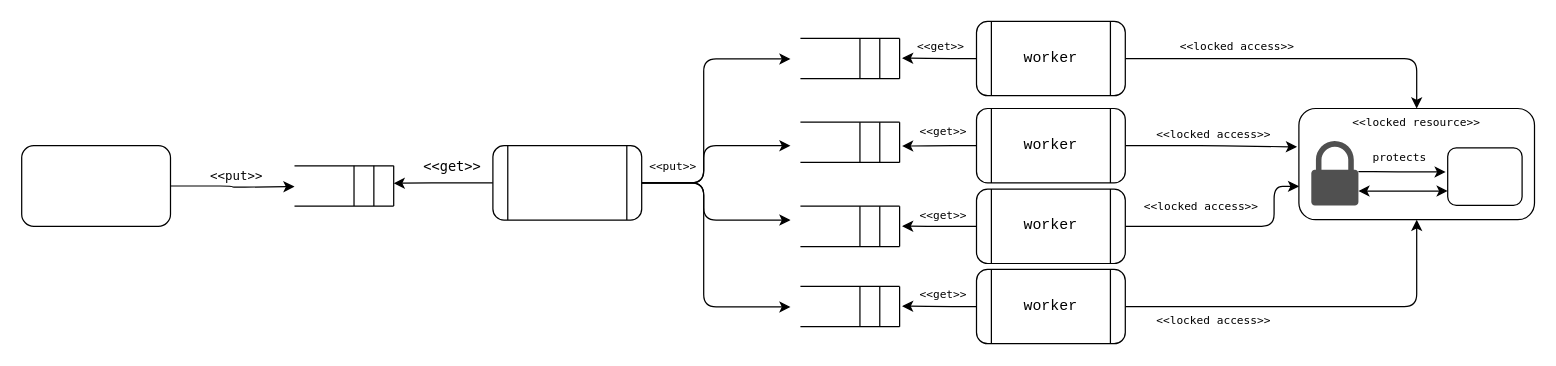
Image size: 1556x366. Some labels were removed from this diagram. The centre of each missing label's shape, as x and y in pixels:
<<hw>> LEDs: pixel 1484 176
GPIOJ_Handler: pixel 95 185
manager: pixel 567 182
